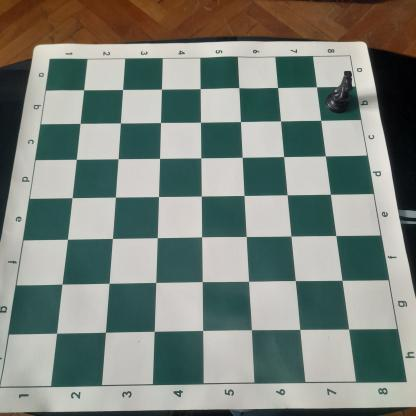black-knight: (324, 69, 355, 115)
